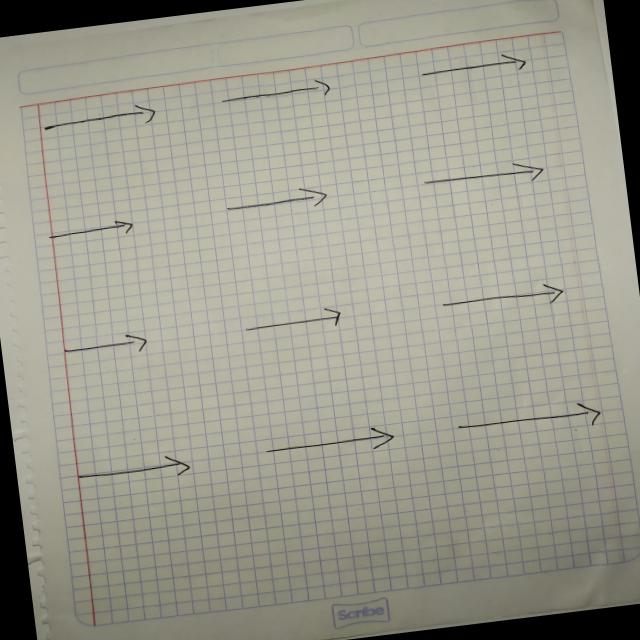arrow_line_right: (448, 389, 614, 447), (254, 417, 408, 467), (431, 274, 576, 326), (410, 152, 550, 202), (67, 445, 202, 496), (213, 178, 342, 226), (208, 69, 339, 115), (34, 98, 167, 140), (410, 46, 532, 91), (235, 300, 366, 341), (54, 326, 162, 366), (42, 212, 149, 250)
